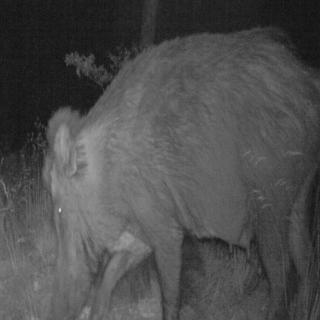Pig: (45, 14, 320, 320)
